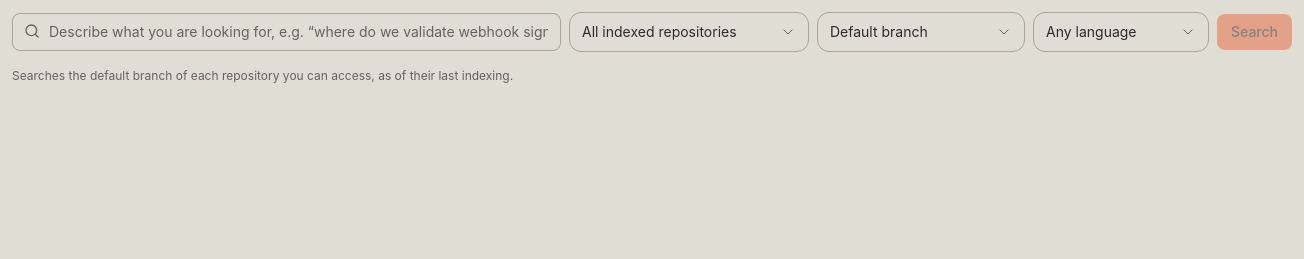
Test: search results link to the related pull request › shows repository, branch and a direct pull request link taken from the API
Type "database" into the field named "Search query". click: (286, 32)
box: [12, 13, 561, 51]
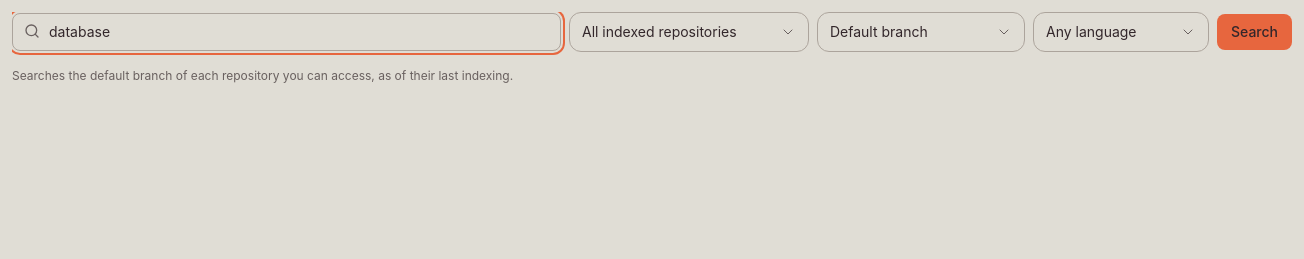
Click the button "Search". click: (1254, 32)
box: [1217, 14, 1292, 50]
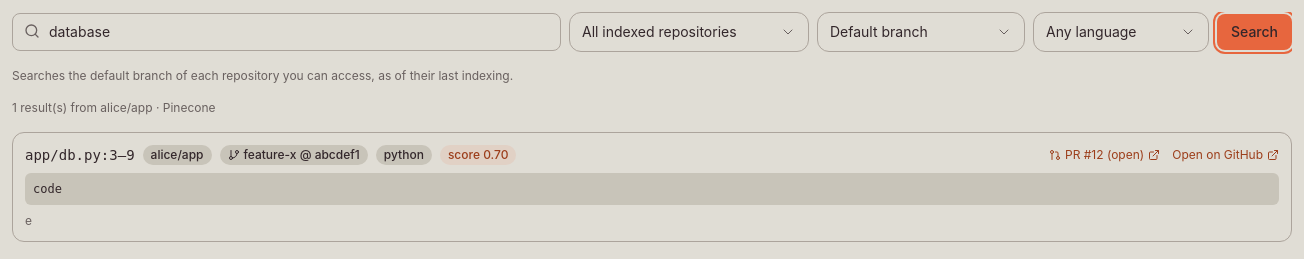
Expected: the text "feature-x @ abcdef1" is shown, [220, 145, 368, 165]
